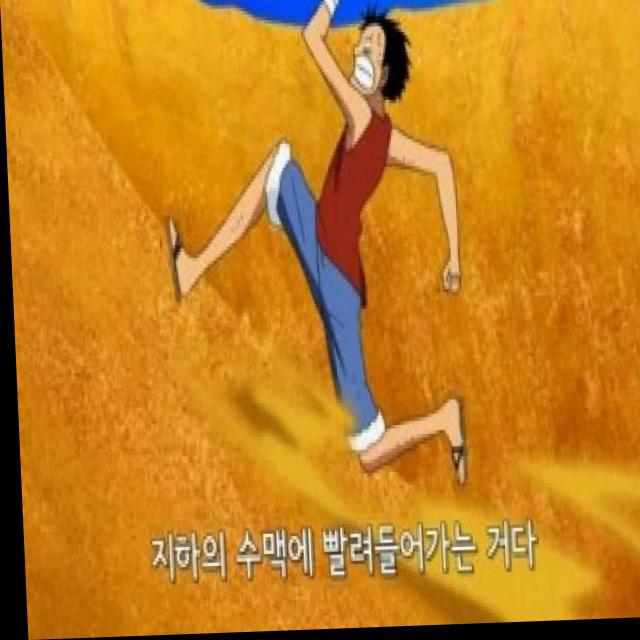Luffy: (331, 2, 422, 135)
